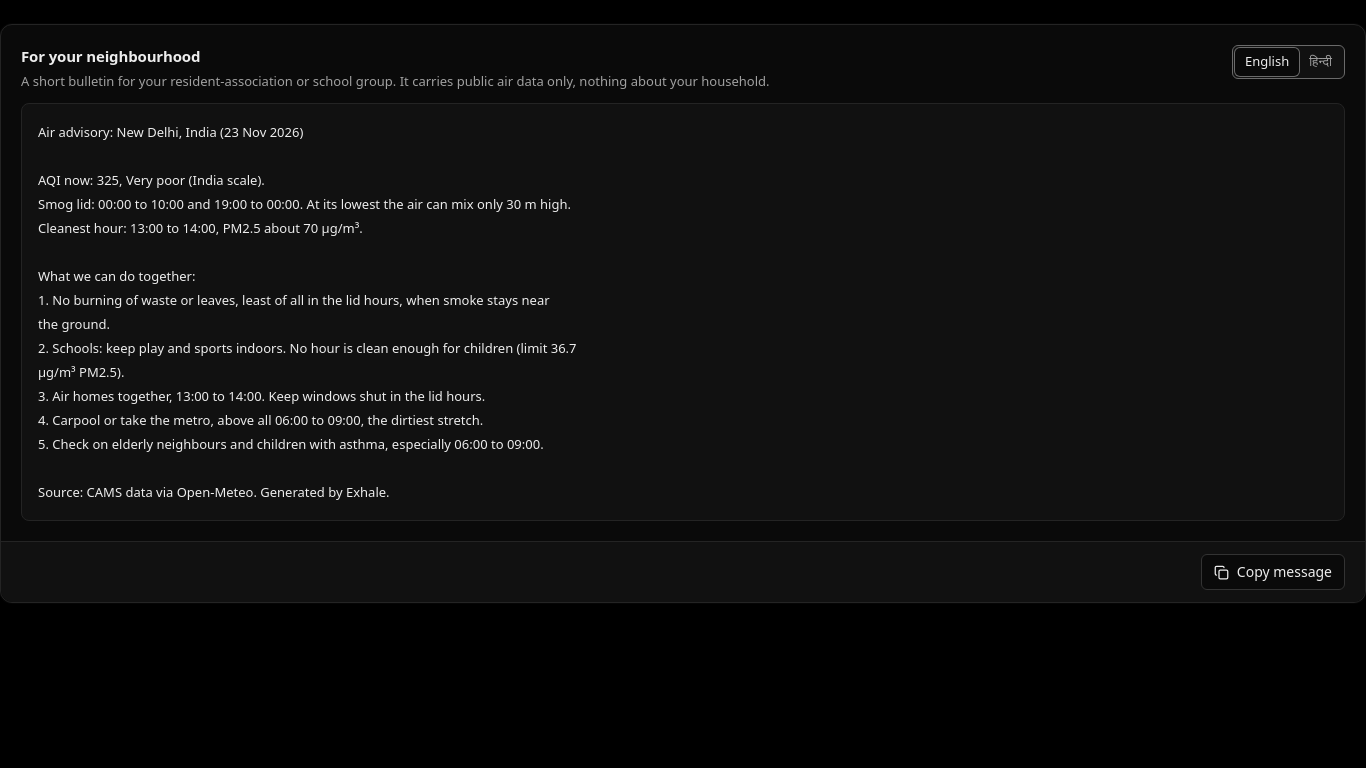
Test: CommunityAdvisoryCard › selects the message and explains what to do when the clipboard refuses
This screenshot has width=1366, height=768.
Click the button "Copy message": (1273, 572) [1201,554,1345,590]
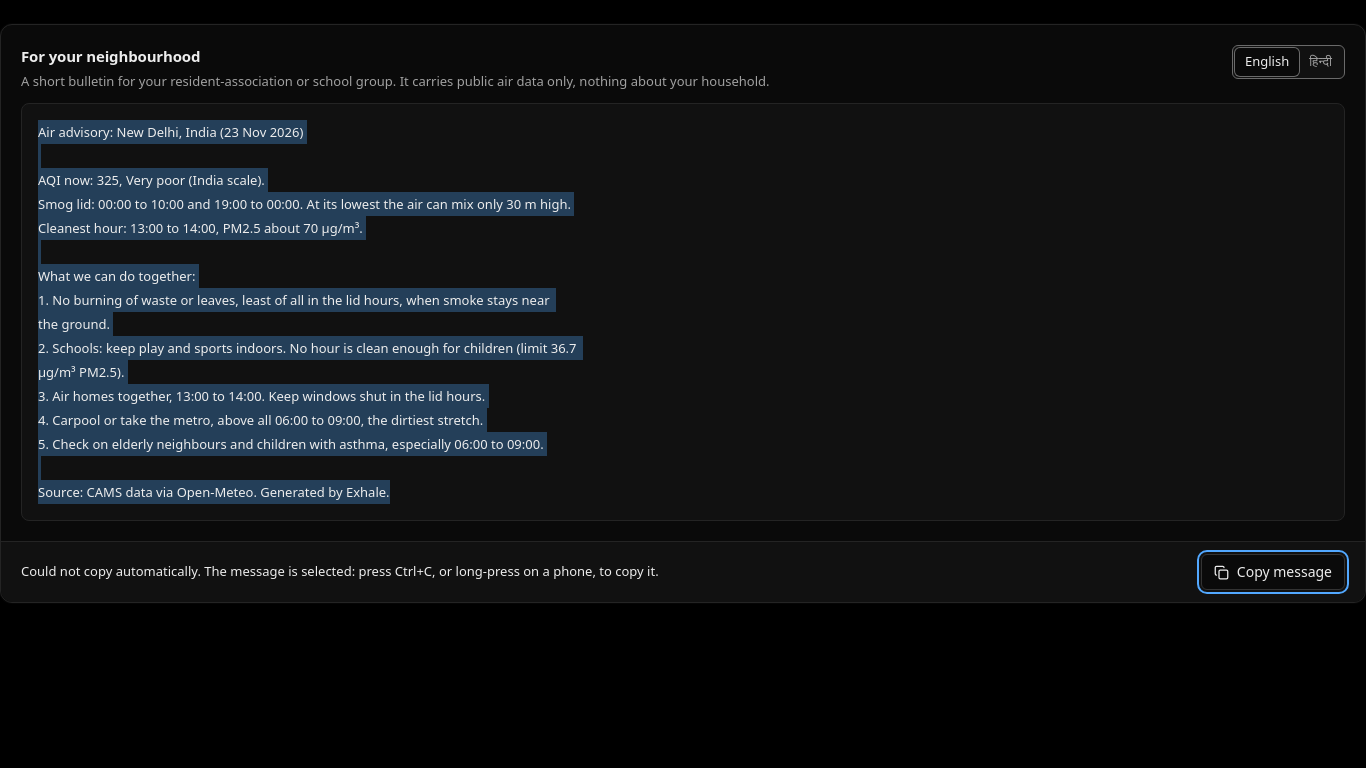
Now the message shows "Could not copy automatically. The message is selected", box [21,562,659,580]
